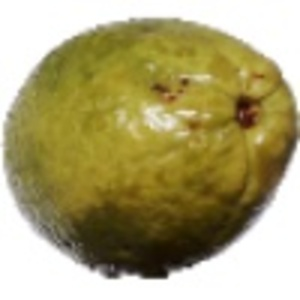goiaba: (5, 20, 297, 269)
